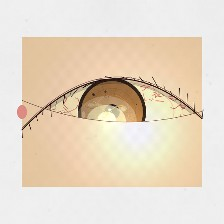corneal_ulcer: (74, 96, 138, 147)
